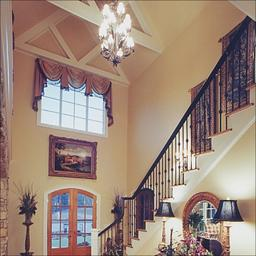Escaleras: (103, 21, 252, 252)
Matera: (11, 177, 42, 255)
Puerta: (47, 186, 97, 253)
